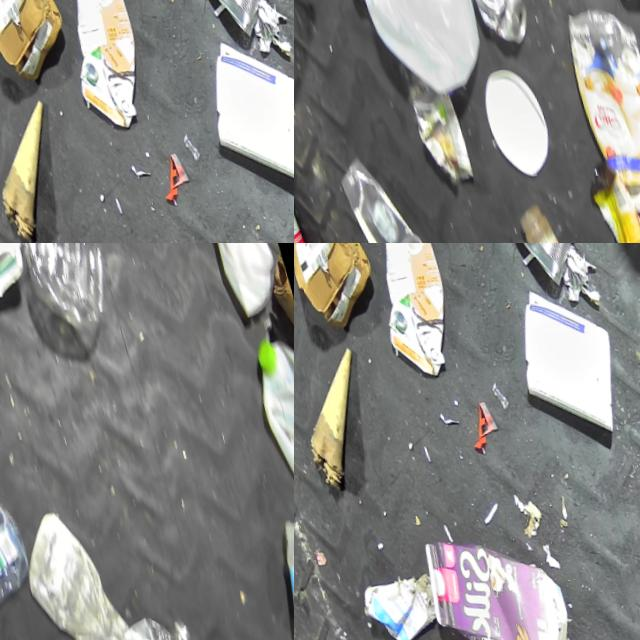can: (503, 243, 593, 288), (194, 0, 284, 39), (456, 0, 529, 48), (294, 151, 318, 243)
milk_jug: (329, 0, 494, 107), (235, 312, 294, 568), (169, 243, 285, 319), (0, 486, 37, 624)
non_white_jug: (408, 511, 576, 640), (356, 243, 469, 384), (47, 0, 160, 135)
plastic_bottle: (0, 243, 123, 339), (71, 590, 209, 640)
